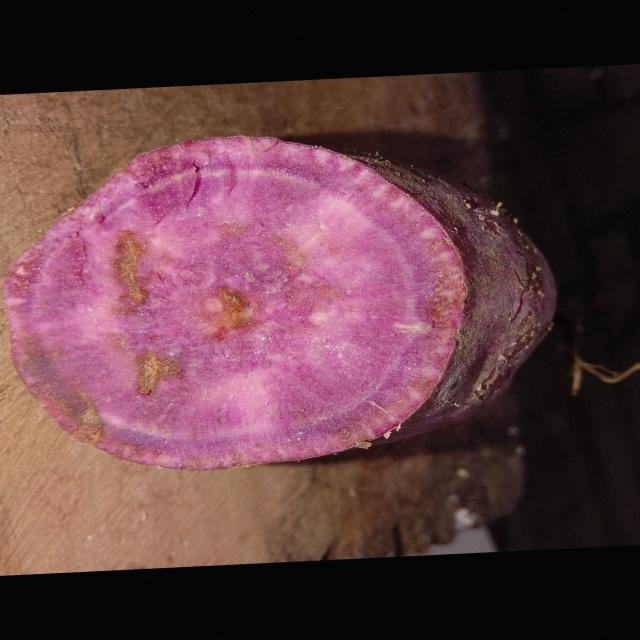Sick Sweet Potato_Tuber Rot: (5, 136, 465, 470)
